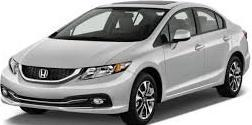Cars: (2, 2, 251, 125)
